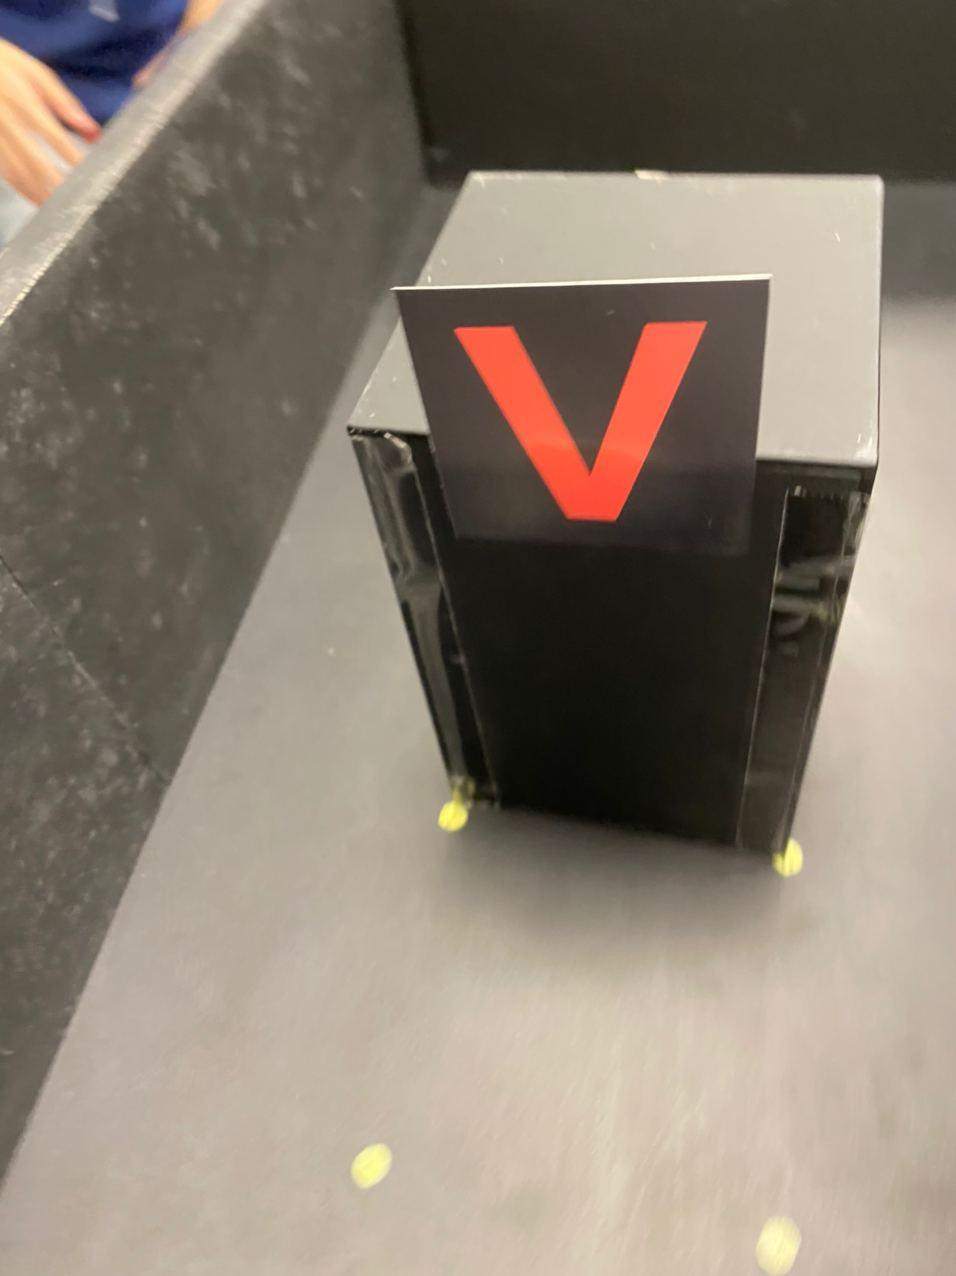v: (441, 301, 723, 543)
